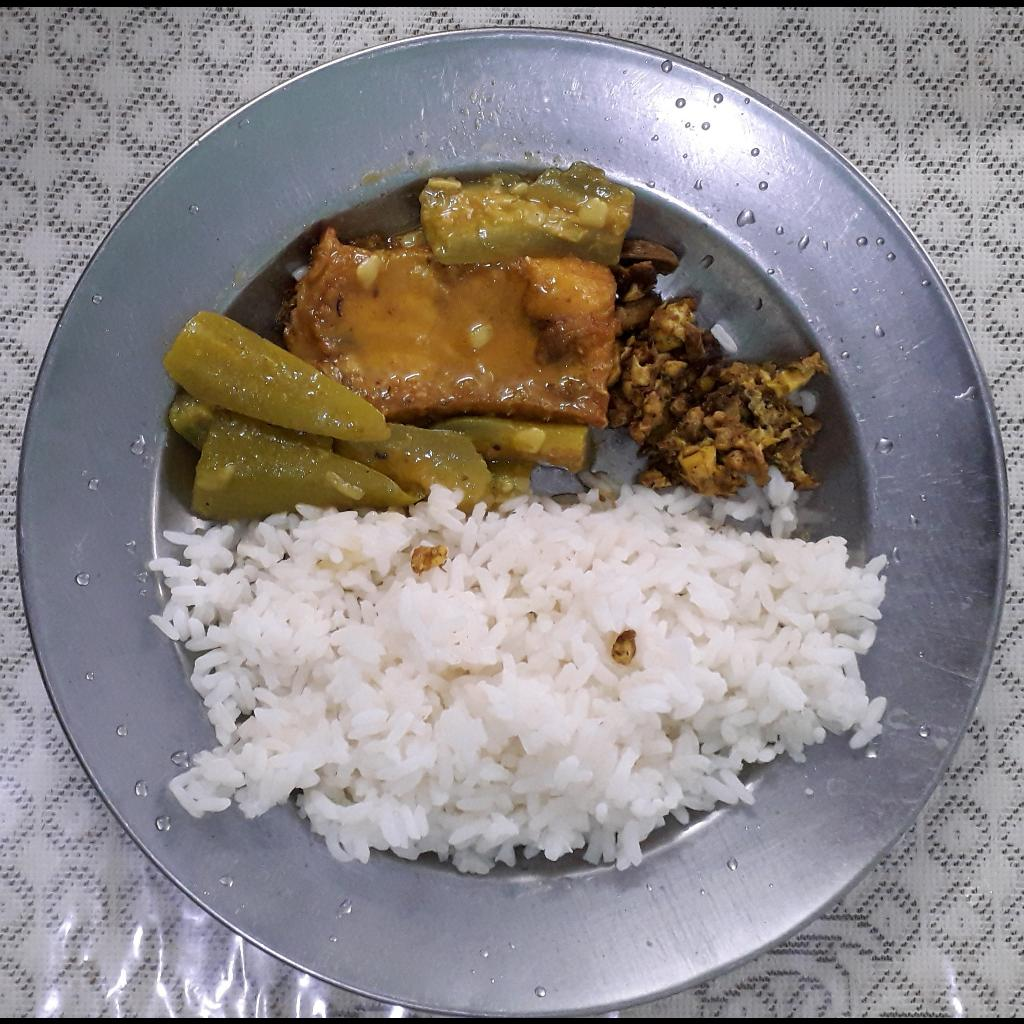dundol: (415, 151, 635, 268)
fish: (278, 229, 620, 420)
korola-vaji: (606, 235, 829, 497)
potol: (161, 311, 594, 519)
rice: (146, 464, 890, 879)
